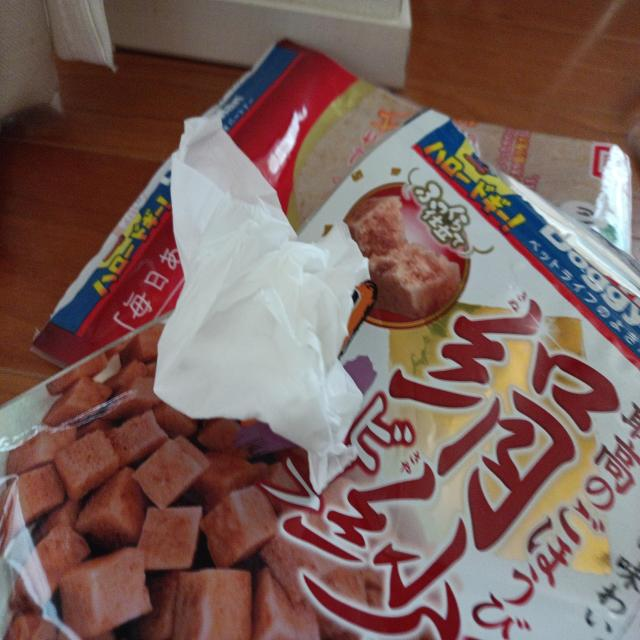衛生紙: (154, 113, 364, 495)
